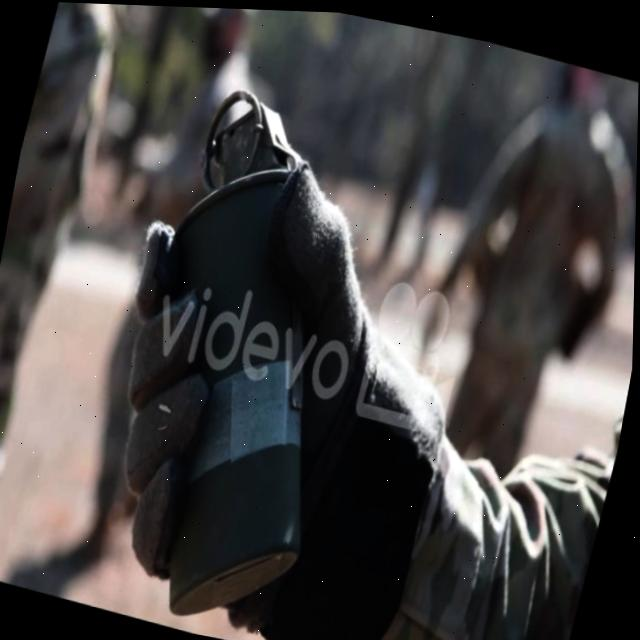grenade: (68, 62, 407, 640)
